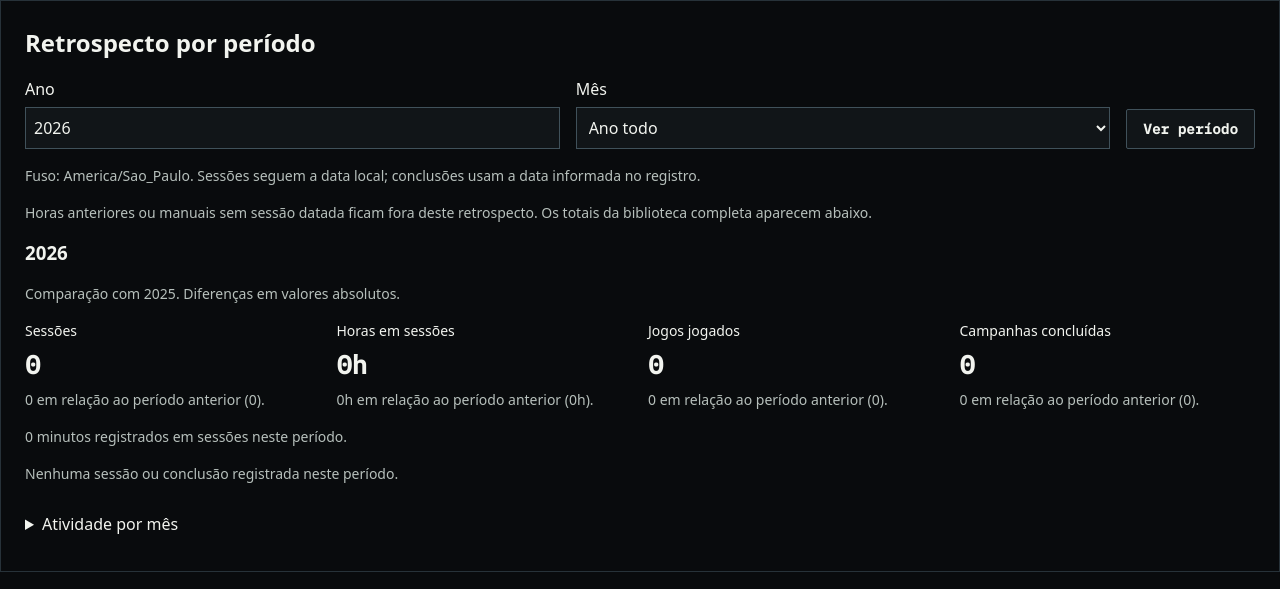
Test: switches annual/monthly periods with separate cached queries and explains timezone and excluded hours
The image size is (1280, 589).
expect the text "Nenhuma sessão ou conclusão registrada neste período." is shown: met, box [25,464,398,484]
expect the text "Fuso: America/Sao_Paulo" is shown: met, box [25,166,701,185]
Replace the text in the number field labelled "Ano" with "2024" at [292, 128], box [25,107,560,149]
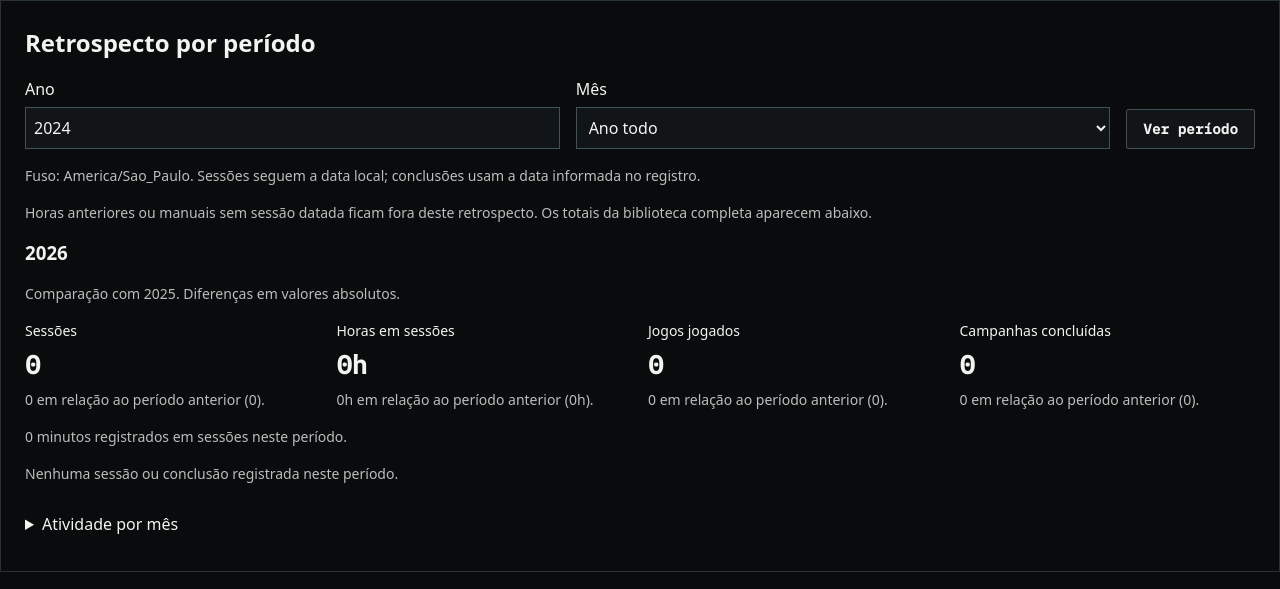
Select "Fevereiro" in the dropdown labelled "Mês" at [843, 128], box [576,107,1110,149]
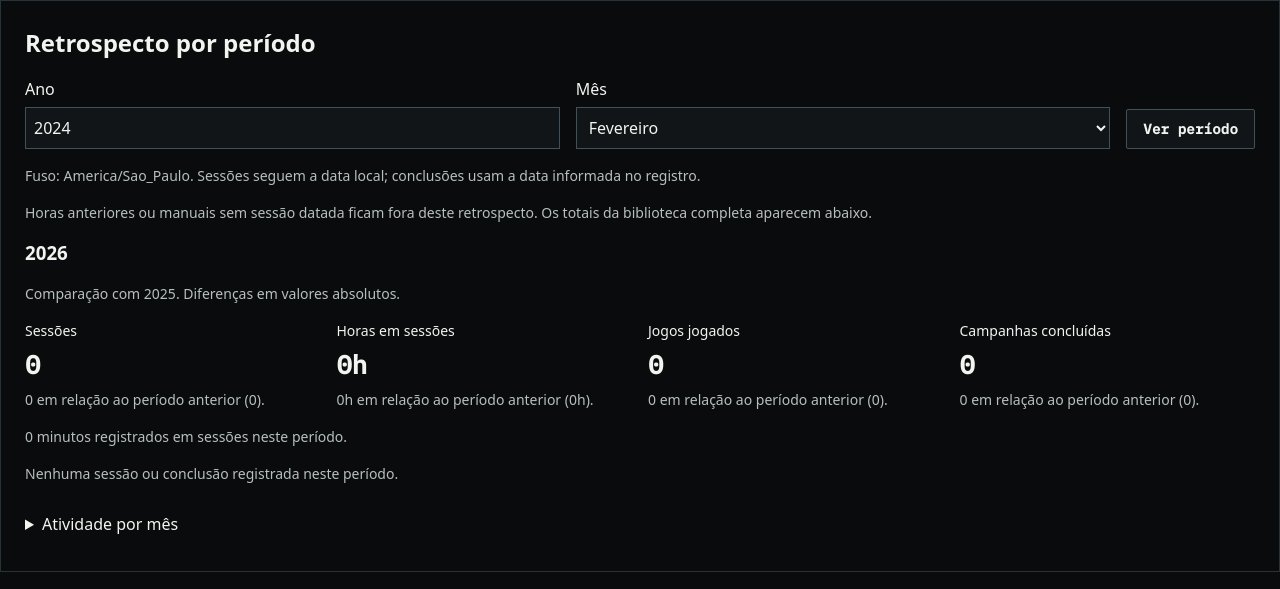
Click the button "Ver período".
click(1191, 129)  # box [1126,109,1255,149]
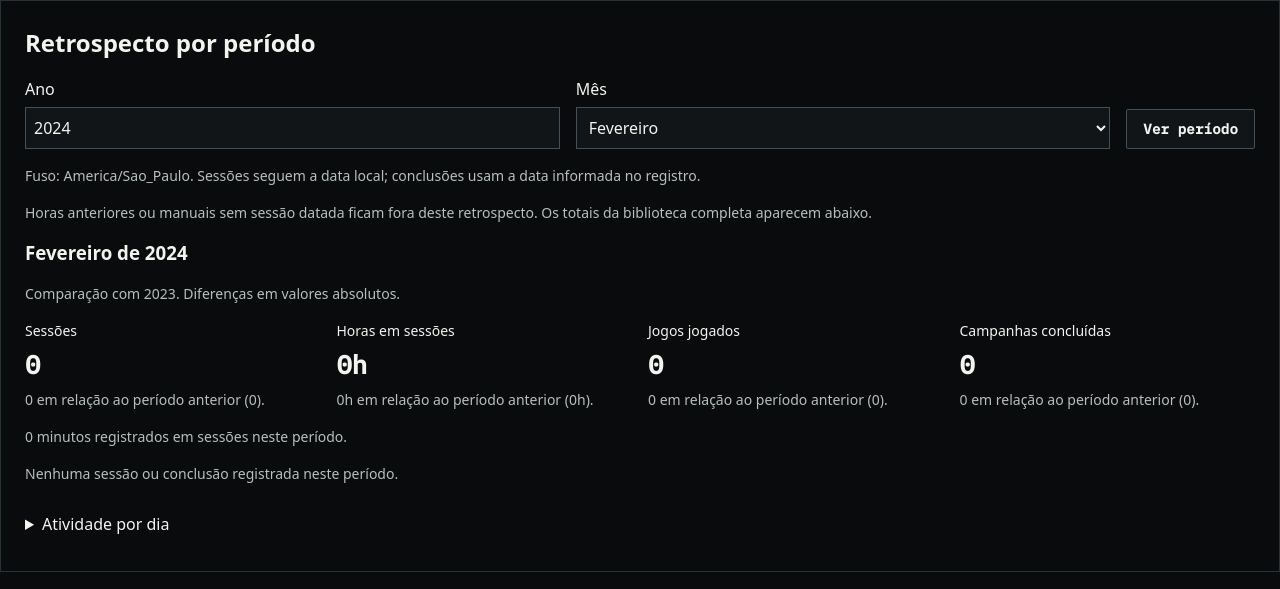
expect the heading "Fevereiro de 2024" is shown: met, box [25,240,188,265]
